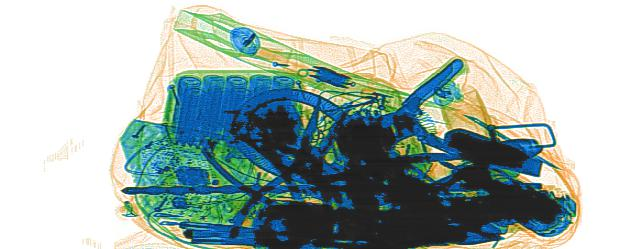battery: (168, 72, 297, 150)
